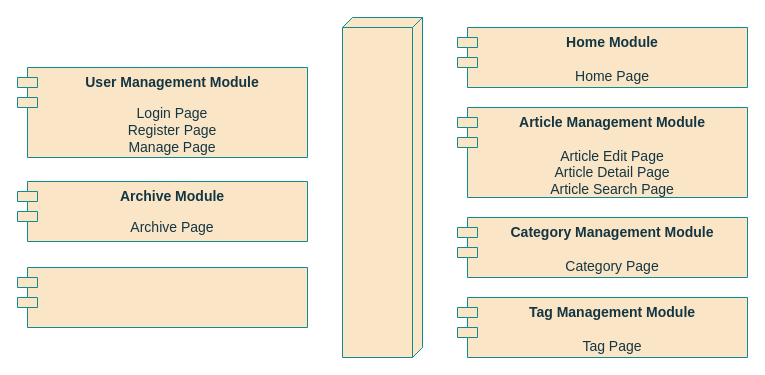
Some shapes in this 765 by 375 pixel diagram are drawn without their labels. Here are the shapes that lost their labels. From the top down, the centre of each, then its label:
At point 382,187: "Views".
At point 162,297: "About Module About Page".
